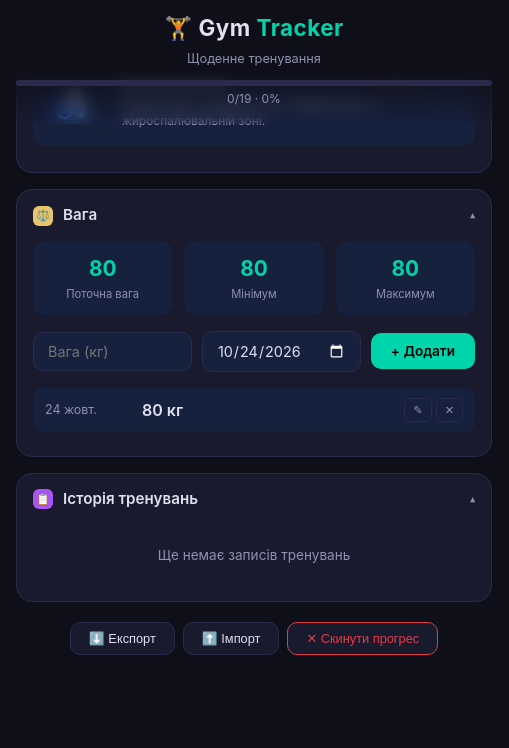
Scenario: App undo flows › deletes a weight entry and can undo it
(page scrolled)
Check: the number of elements with class "weight-entry" is 1, box [33,388,475,432]
Click the button "✕": x=449, y=410 [436,398,463,422]
(page scrolled)
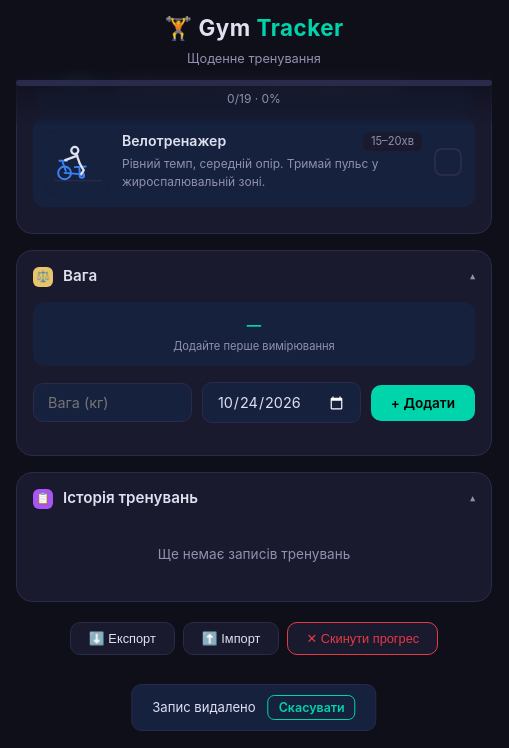
Check: no elements with class "weight-entry" are shown
Check: the message with class "toast" shows "видалено", box [152,699,256,715]
Click the button with id "toast-undo": x=312, y=708 [268,695,356,720]
(page scrolled)
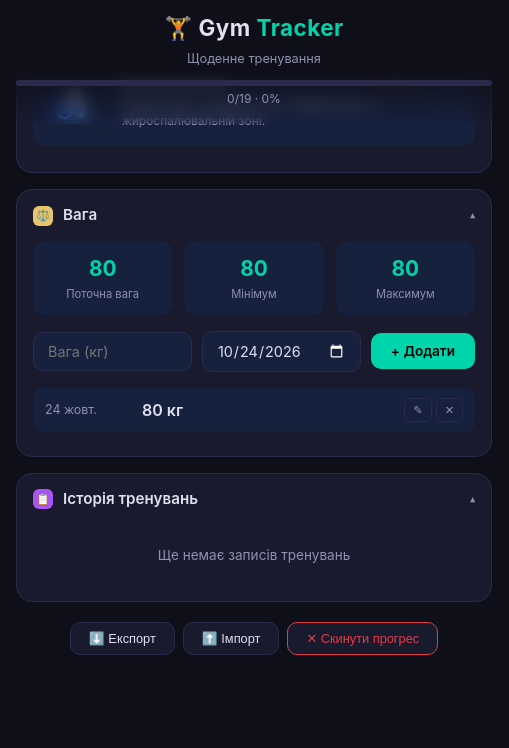
Check: the number of elements with class "weight-entry" is 1, box [33,388,475,432]
